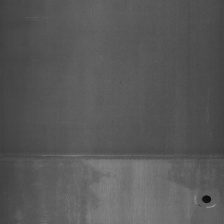punching_hole: (1, 149, 222, 164), (200, 192, 212, 206)
